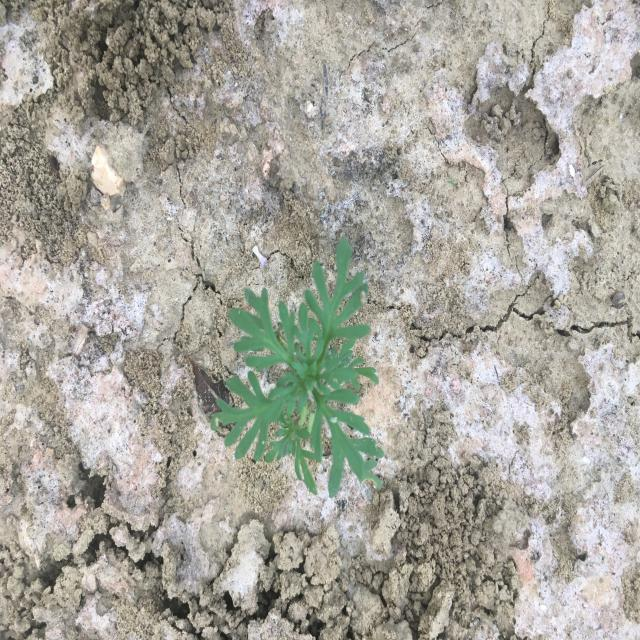Ragweed: (210, 234, 386, 499)
